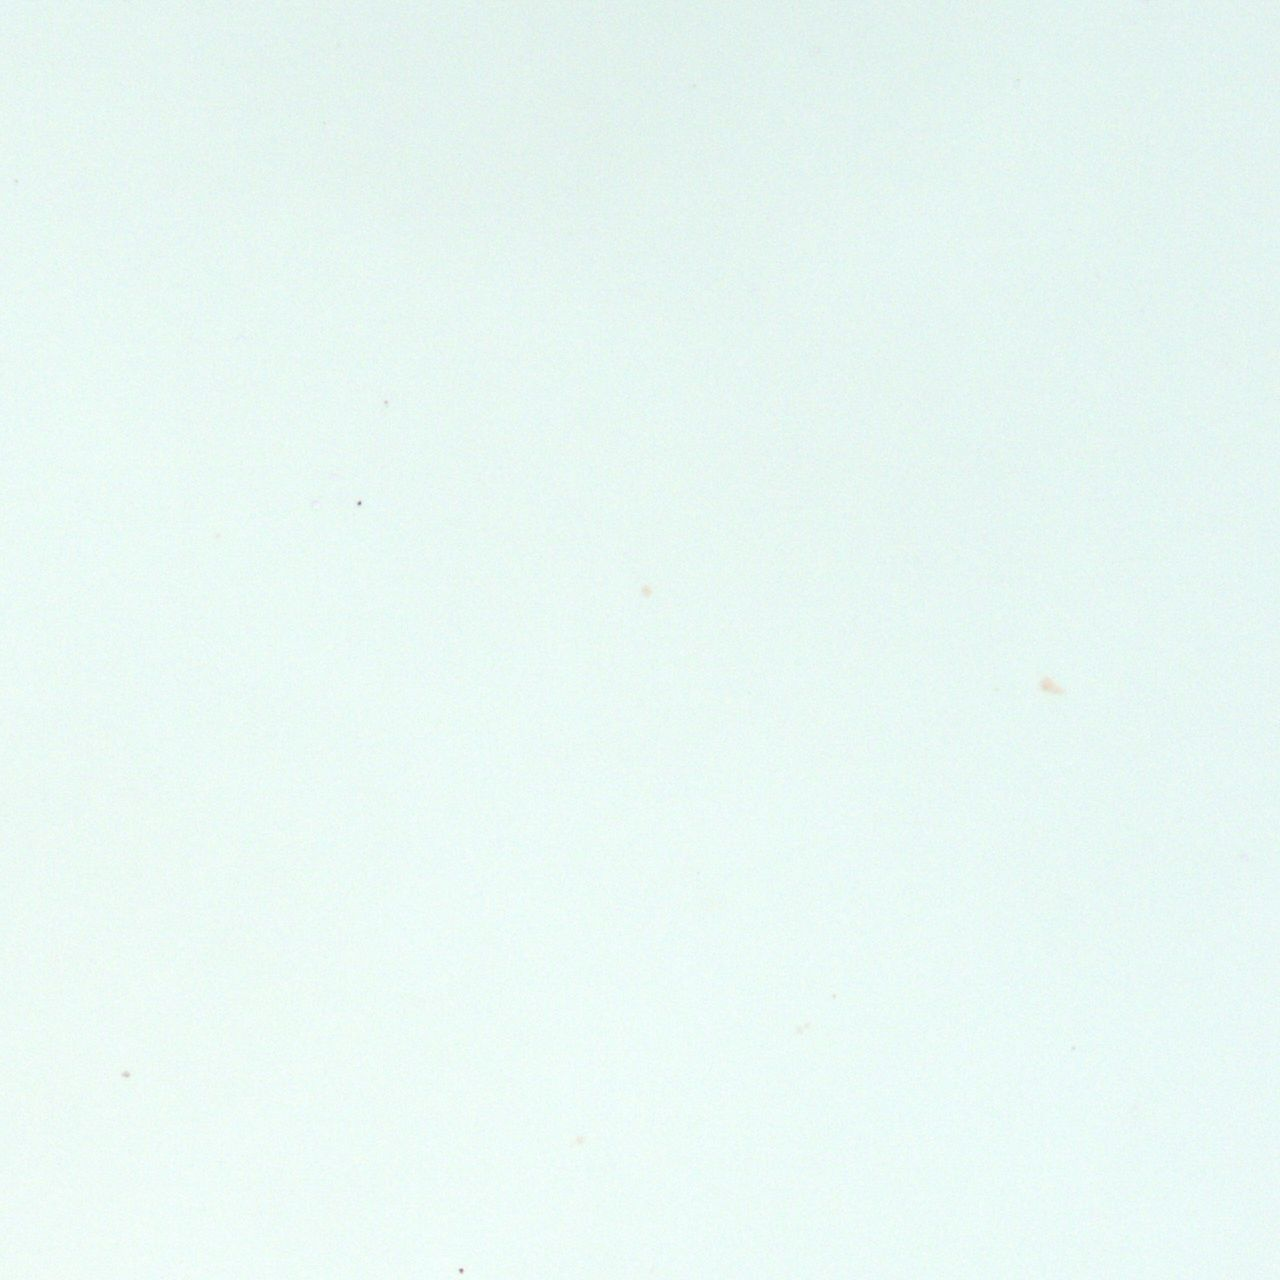dust: (1036, 674, 1063, 694), (639, 585, 653, 602), (455, 1266, 467, 1275), (353, 498, 365, 506), (120, 1070, 131, 1077), (381, 397, 389, 406)
